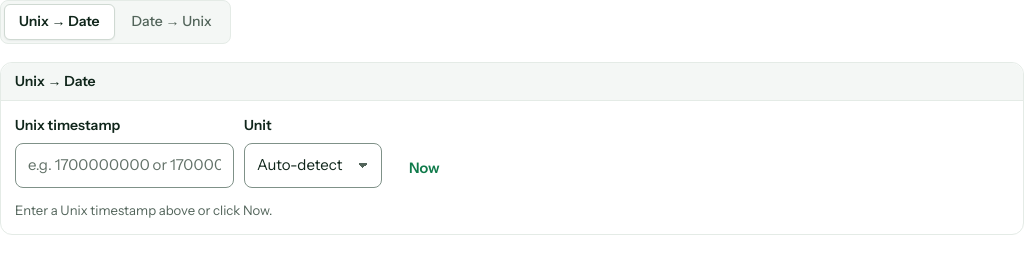
TimestampConverter — Unix → Date › shows an error for non-numeric input
Type "hello" into the field with placeholder "e.g. 1700000000 or 1700000000000" at (124, 165), box 15,143 -> 234,188
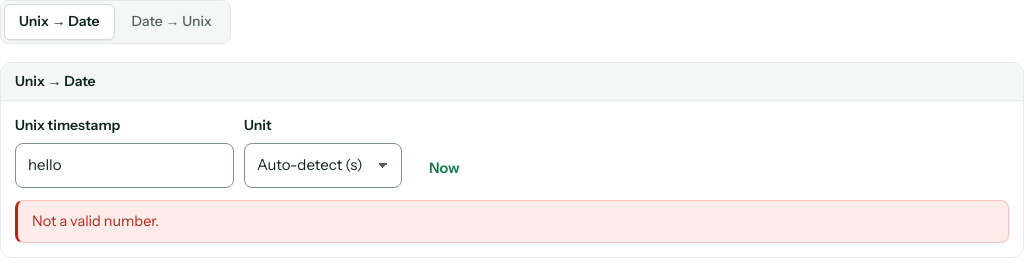
Result: the text "Not a valid number." is shown at 15,200 -> 1009,243
